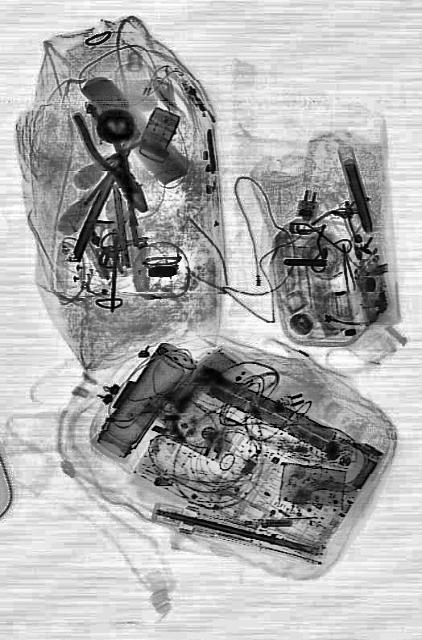Pliers: (68, 93, 158, 225)
